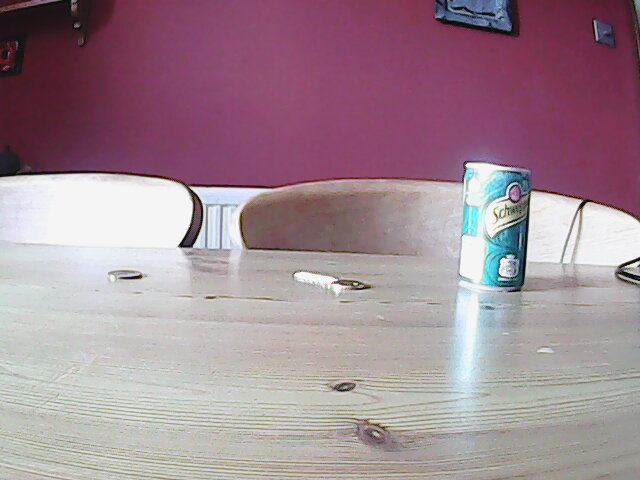Can: (454, 158, 531, 297)
Coin: (104, 268, 144, 284)
Key: (289, 267, 369, 297)
